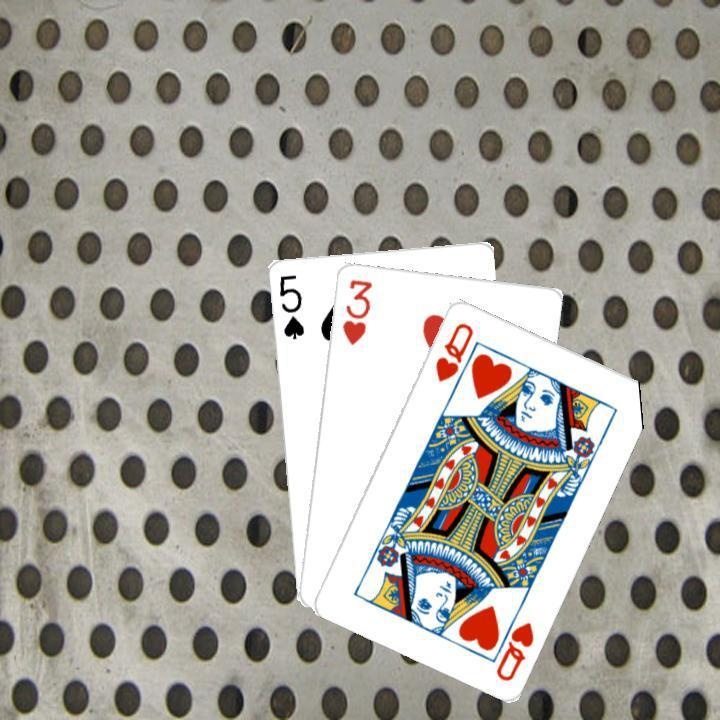3: (338, 275, 374, 346)
5: (274, 269, 305, 341)
Q: (486, 603, 536, 683), (430, 317, 476, 383)
